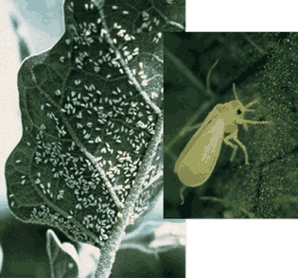whitefly: (174, 83, 262, 199)
